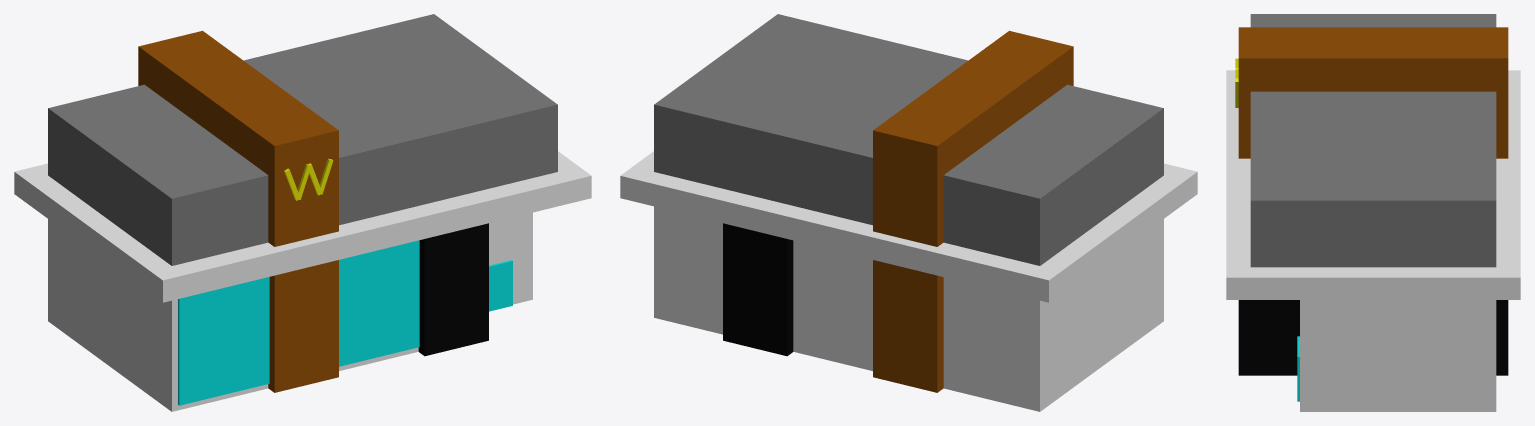
File: wacdonald.fbx
3 views of the same model, side by side, from view 1: azimuth 30°, elevation 25°; view 2: azimuth 150°, elevation 25°; view 3: azimuth 270°, elevation 25° (orthographic).
Parts seen in each view (by area): view 1: pCube4, pCube3, pCube2, pCube1, pCube7, pCube5, pCube6, pCube8; view 2: pCube4, pCube7, pCube3, pCube2, pCube5, pCube6; view 3: pCube4, pCube6, pCube3, pCube2, pCube5.
Part boxes in pixels (box(x1,y1,x2,y2)): pCube4: box(48, 14, 557, 265); pCube3: box(138, 30, 338, 392); pCube2: box(14, 151, 591, 302); pCube1: box(178, 240, 419, 405); pCube7: box(48, 219, 418, 411); pCube5: box(418, 223, 488, 356); pCube6: box(489, 212, 532, 304); pCube8: box(490, 260, 512, 310); pCube4: box(654, 14, 1163, 265); pCube7: box(793, 219, 1163, 411); pCube3: box(873, 30, 1073, 392); pCube2: box(620, 151, 1197, 302); pCube5: box(723, 223, 793, 356); pCube6: box(654, 206, 722, 334); pCube4: box(1250, 14, 1496, 267); pCube6: box(1300, 300, 1496, 411); pCube3: box(1238, 27, 1508, 158); pCube2: box(1226, 70, 1520, 299); pCube5: box(1238, 300, 1508, 375).
Size of the model in its own units: 800 by 440 by 480.
